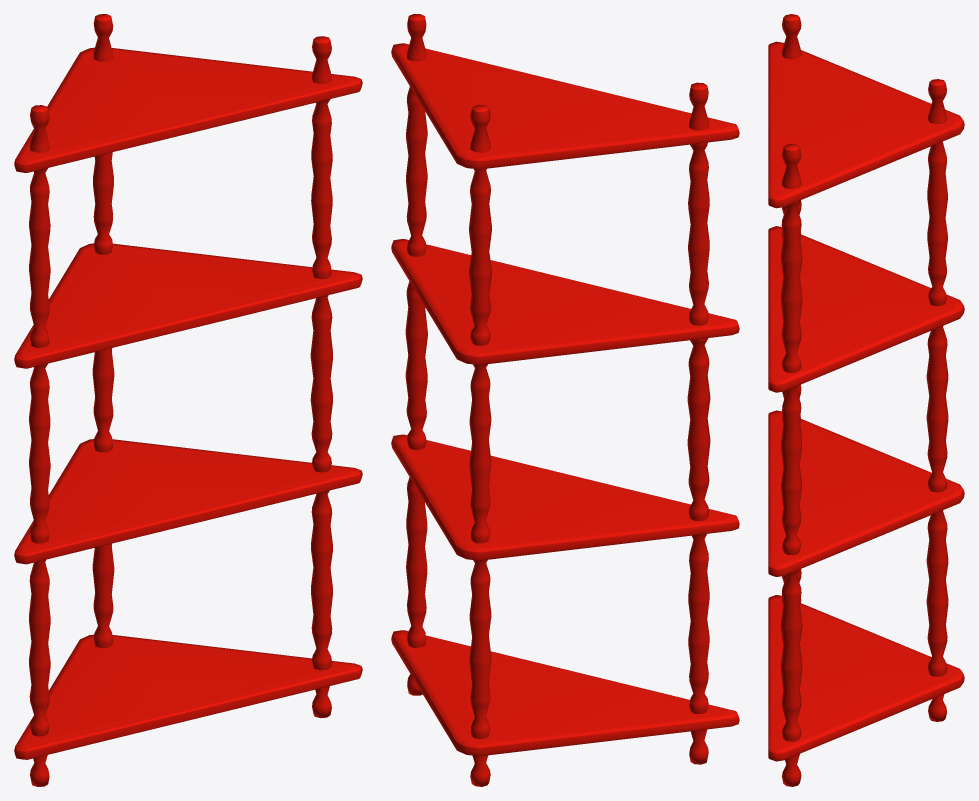
The model's file is multishelf corner table.fbx.
The picture shows the model from 3 angles, left to right: view 1: azimuth 30°, elevation 25°; view 2: azimuth 150°, elevation 25°; view 3: azimuth 270°, elevation 25°; orthographic projection. The views are drawn at different scales.
Visible parts, largest first — view 1: Plane, pillar, pillar.001, pillar.002, littlePillar, littlePillar.001, littlePillar.002; view 2: Plane, pillar.001, pillar.002, pillar, littlePillar.001, littlePillar.002, littlePillar; view 3: Plane, pillar, pillar.002, littlePillar, littlePillar.002, littlePillar.001.
Boxes of the visible parts, left/top/right/bottom form: Plane: left=14, top=47, right=362, bottom=759; pillar: left=310, top=99, right=332, bottom=670; pillar.001: left=29, top=168, right=50, bottom=736; pillar.002: left=92, top=152, right=114, bottom=647; littlePillar: left=312, top=36, right=331, bottom=718; littlePillar.001: left=30, top=105, right=49, bottom=786; littlePillar.002: left=93, top=14, right=113, bottom=61; Plane: left=391, top=43, right=739, bottom=756; pillar.001: left=687, top=142, right=710, bottom=713; pillar.002: left=469, top=168, right=491, bottom=738; pillar: left=405, top=87, right=427, bottom=647; littlePillar.001: left=689, top=82, right=708, bottom=764; littlePillar.002: left=470, top=105, right=490, bottom=786; littlePillar: left=407, top=14, right=426, bottom=695; Plane: left=768, top=41, right=964, bottom=761; pillar: left=781, top=200, right=802, bottom=741; pillar.002: left=926, top=141, right=948, bottom=676; littlePillar: left=782, top=144, right=801, bottom=786; littlePillar.002: left=928, top=79, right=947, bottom=721; littlePillar.001: left=781, top=14, right=801, bottom=59.
Bounding box in the file's own units: 49.22 × 91.41 × 25.6.
